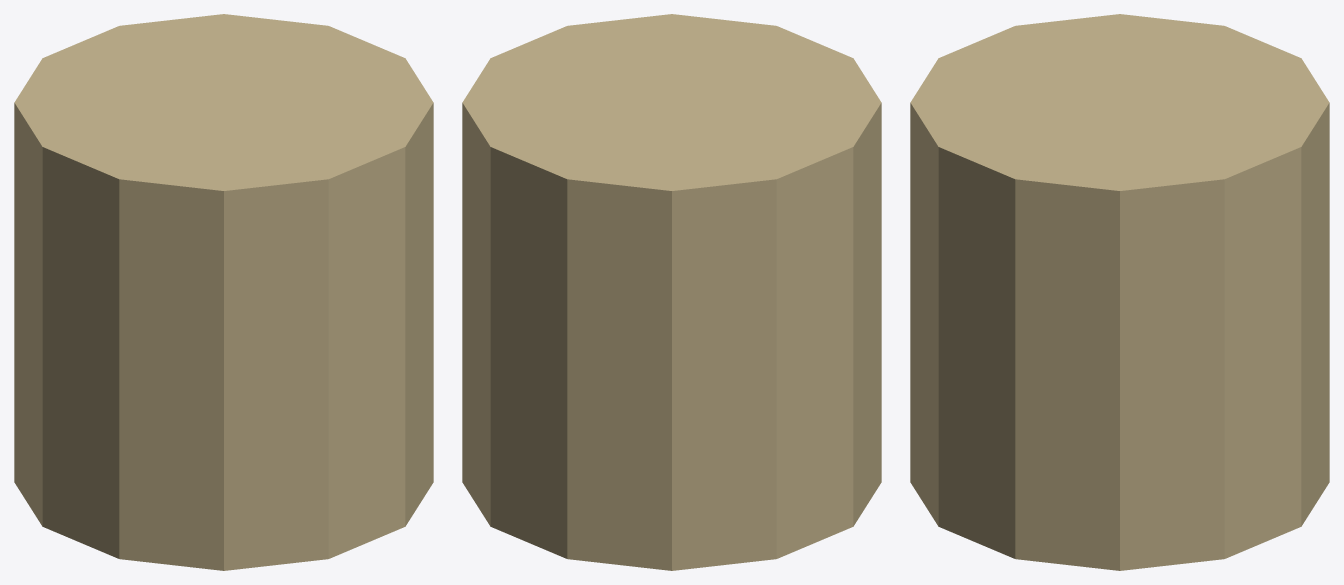
File: story-yuta.glb
3 views of the same model, side by side, from view 1: azimuth 30°, elevation 25°; view 2: azimuth 150°, elevation 25°; view 3: azimuth 270°, elevation 25° (orthographic).
Visible parts, largest first — view 1: tape; view 2: tape; view 3: tape.
Boxes of the visible parts, x1,y1,x2,y2 form: tape: (14,14,433,570); tape: (462,14,881,570); tape: (910,14,1329,570).
Bounding box in the file's own units: 0.05 × 0.05 × 0.05.
